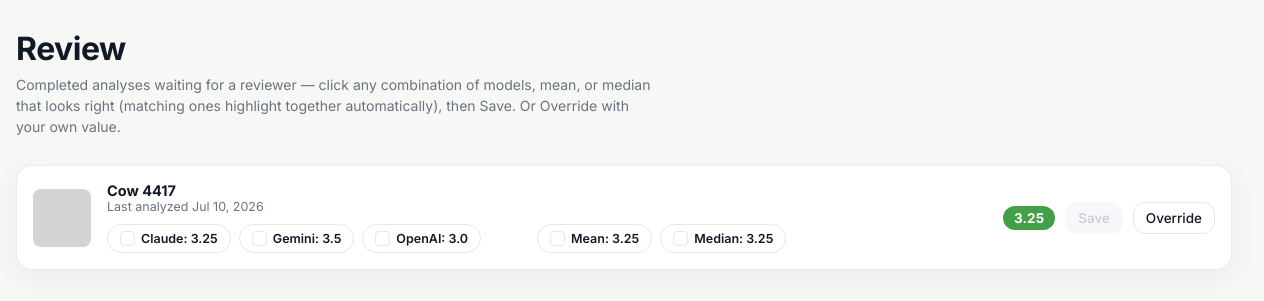
ReviewPage › shows an error toast when Save fails, and leaves the row in place
This screenshot has width=1264, height=301.
Check: the text "Cow 4417" is shown, box [107,182,176,199]
Step 1. Click the button "Claude: 3.25" → x=169, y=238, box [107,224,231,253]
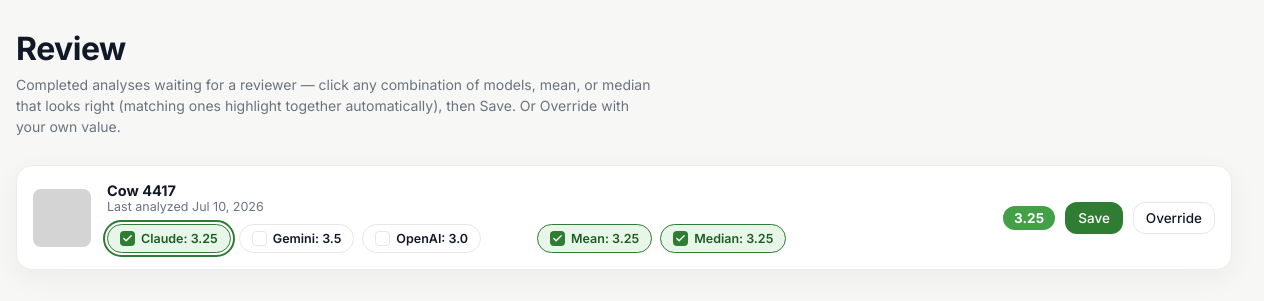
Step 2. Click the button "Save" → x=1094, y=218, box [1065,202,1123,234]
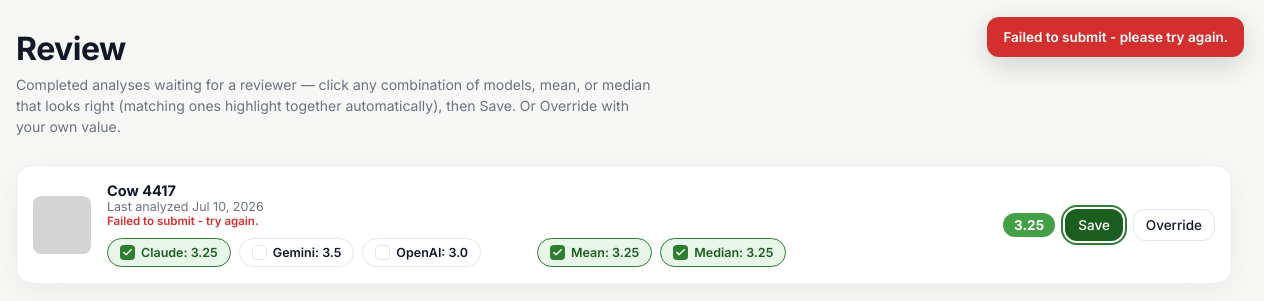
Check: the text "Cow 4417" is shown, box [107,182,176,199]
Check: the text "Failed to submit - please try again." is shown, box [1003,29,1228,45]
